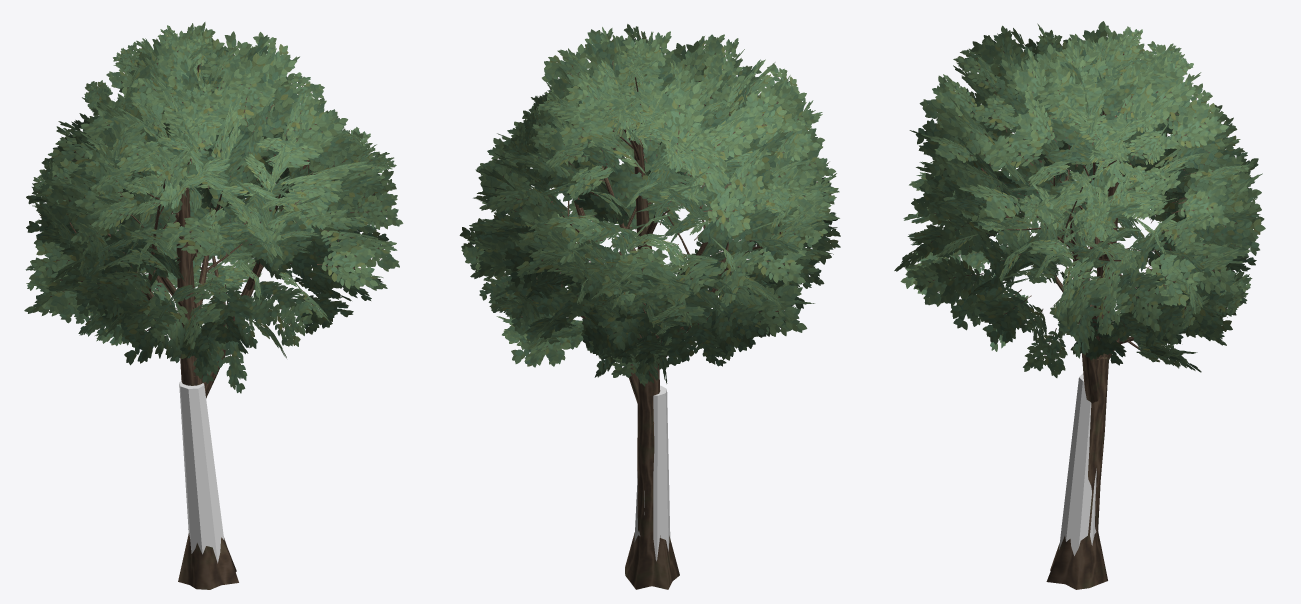
File: plaza_tree_b.gltf
3 views of the same model, side by side, from view 1: azimuth 30°, elevation 25°; view 2: azimuth 150°, elevation 25°; view 3: azimuth 270°, elevation 25° (orthographic).
Visible parts, largest first — view 1: plaza_tree_b_LOD0, plaza_tree_b_col; view 2: plaza_tree_b_LOD0, plaza_tree_b_col; view 3: plaza_tree_b_LOD0, plaza_tree_b_col.
Boxes of the visible parts, x1,y1,x2,y2 form: plaza_tree_b_LOD0: [24, 22, 403, 589]; plaza_tree_b_col: [179, 381, 224, 563]; plaza_tree_b_LOD0: [459, 24, 840, 589]; plaza_tree_b_col: [634, 385, 670, 561]; plaza_tree_b_LOD0: [894, 21, 1265, 589]; plaza_tree_b_col: [1059, 373, 1096, 555].
Size of what is drawn, in the model's own units: 4.97 by 7.22 by 4.72.
2 materials, 2 textured.
